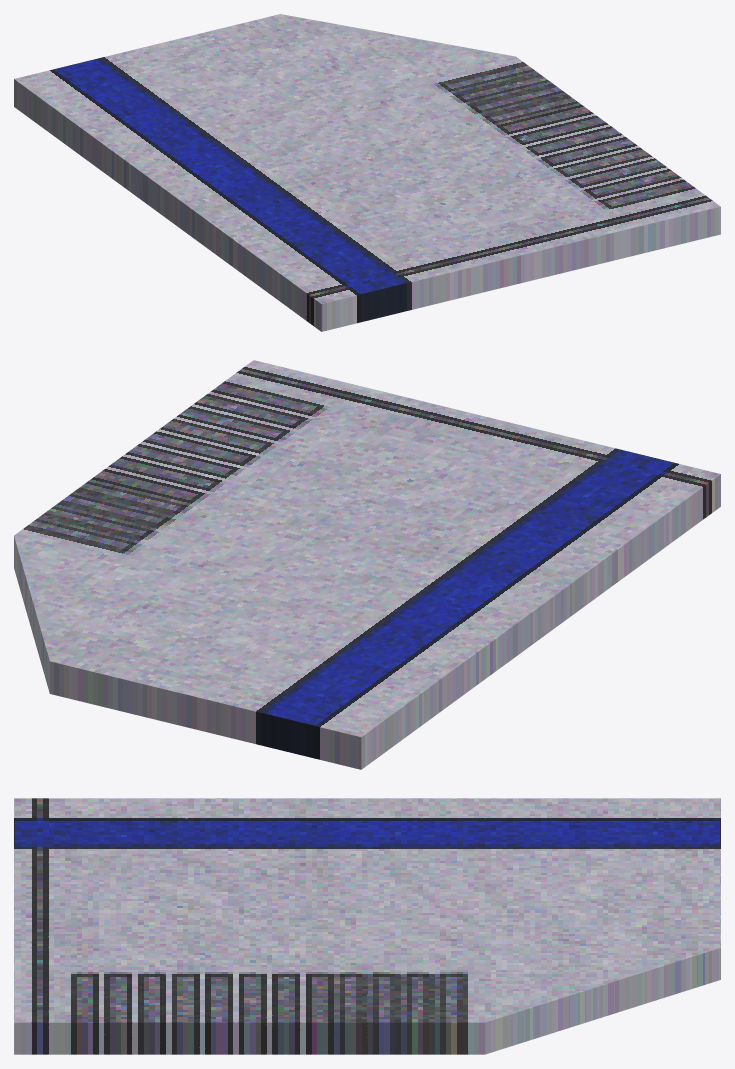
Rendered from key.gltf.
The picture shows the model from 3 angles, top to bottom: view 1: azimuth 30°, elevation 25°; view 2: azimuth 150°, elevation 25°; view 3: azimuth 270°, elevation 25°; orthographic projection. The views are drawn at different scales.
Visible parts, largest first — view 1: Plane; view 2: Plane; view 3: Plane.
Boxes of the visible parts, left/top/right/bottom form: Plane: left=14, top=14, right=720, bottom=331; Plane: left=14, top=360, right=720, bottom=769; Plane: left=14, top=798, right=720, bottom=1054.
Bounding box in the file's own units: 0.75 × 0.05 × 1.
Materials: 1 (1 with a texture image).
